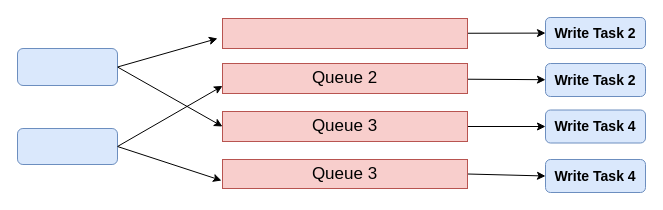
Image size: 663x210. Some labels were removed from this diagram. The shapes that lost their labels are listed below. From the top down, each one's centre as x and y in pixels, then its label:
the point at 345,33: Queue 1
the point at 67,67: Read Task 1
the point at 67,146: Read Tas k 2
